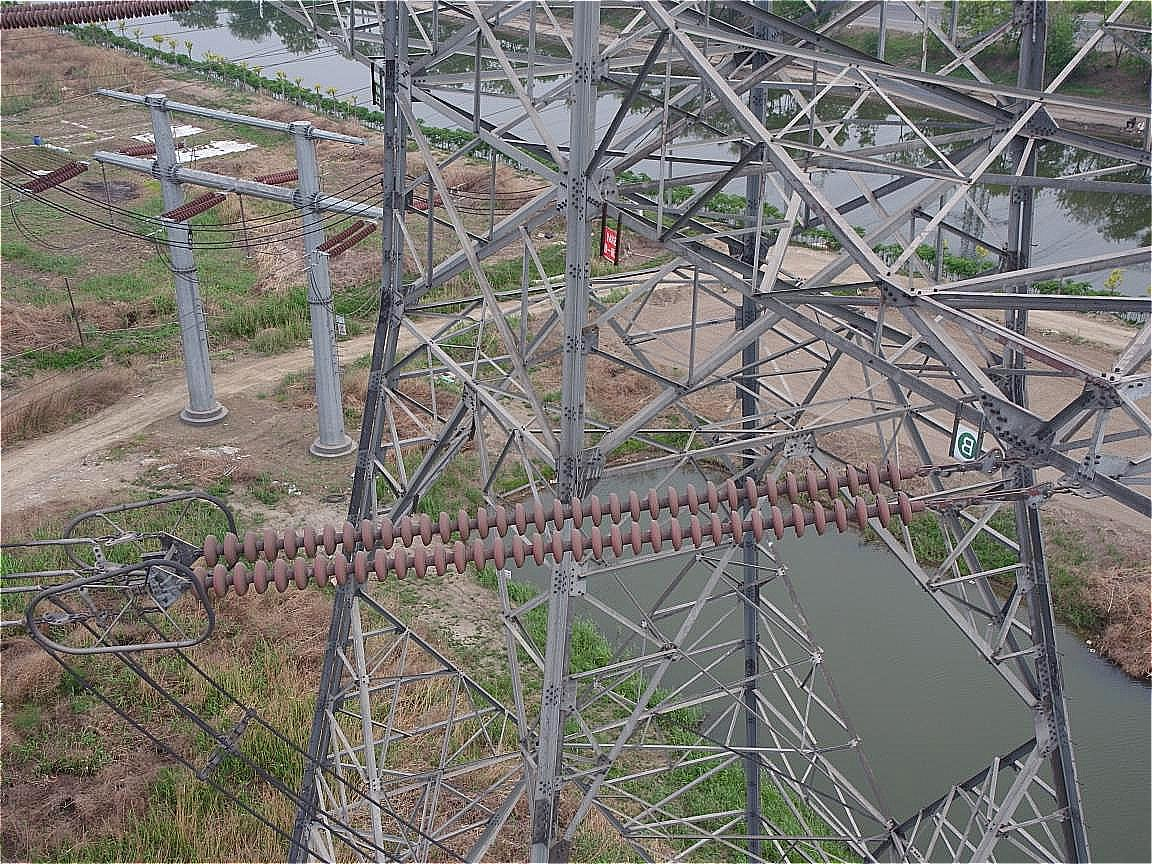insultor1: (155, 446, 922, 626)
